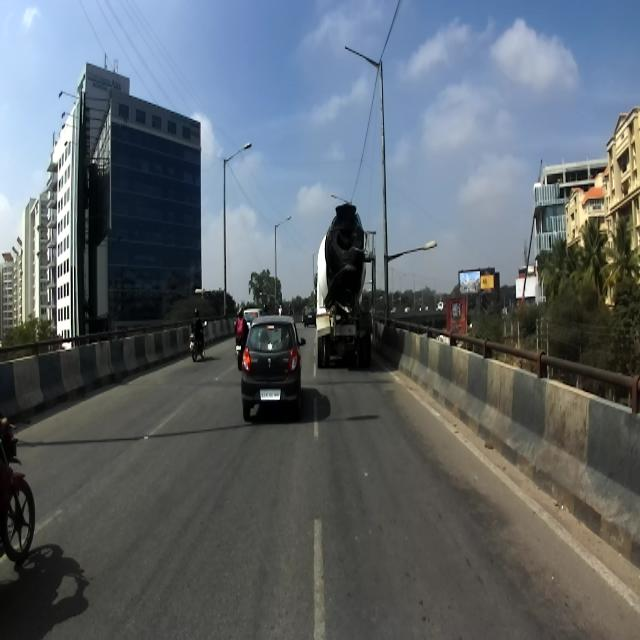car ahead at: (242, 320, 304, 420)
truck ahead at: (311, 193, 384, 370)
